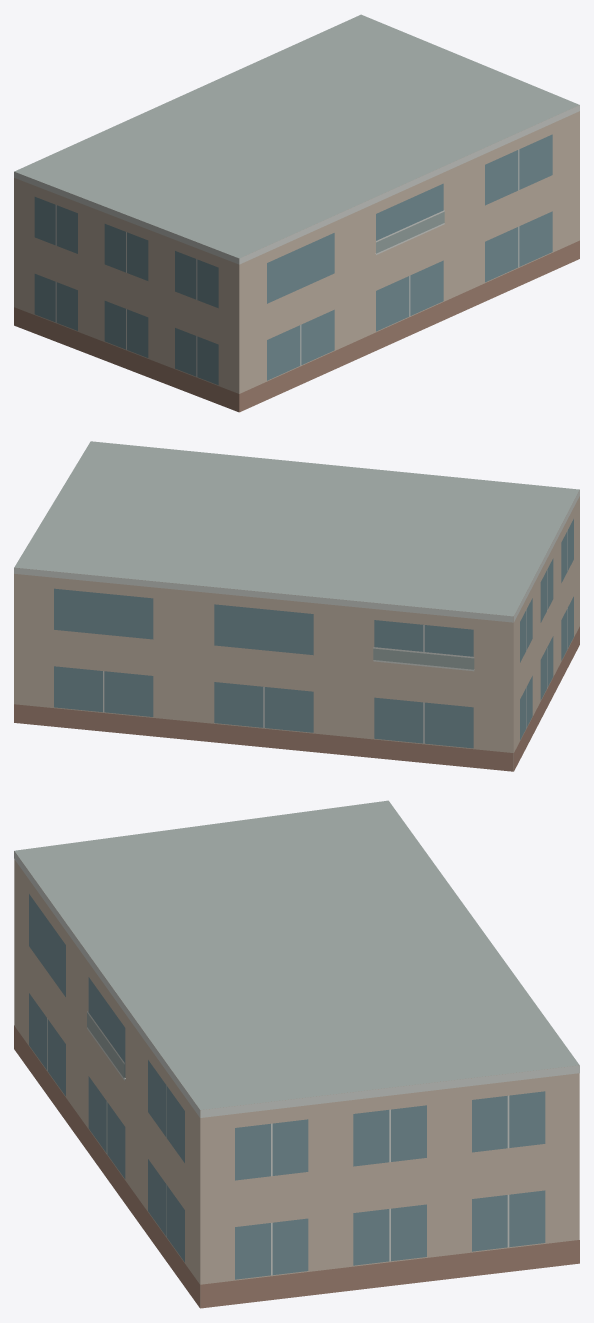
File: survey-upis-32604536.glb
The picture shows the model from 3 angles, top to bottom: view 1: azimuth 30°, elevation 25°; view 2: azimuth 150°, elevation 25°; view 3: azimuth 270°, elevation 25°; orthographic projection. The views are drawn at different scales.
Parts seen in each view (by area): view 1: survey-upis-32604536.tmp; view 2: survey-upis-32604536.tmp; view 3: survey-upis-32604536.tmp.
Boxes of the visible parts, <box> form: survey-upis-32604536.tmp: <box>14,14,579,412</box>; survey-upis-32604536.tmp: <box>14,441,579,771</box>; survey-upis-32604536.tmp: <box>14,800,579,1308</box>.
Bounding box in the file's own units: 20.44 × 6.1 × 15.78.
